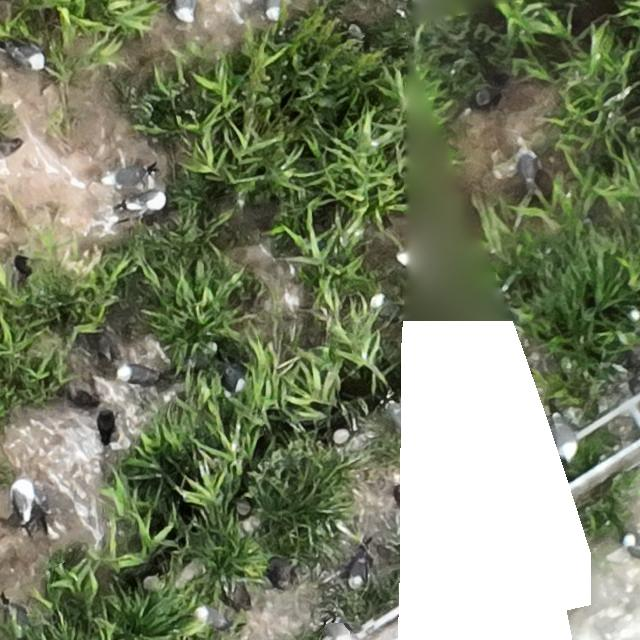umineko: (550, 399, 577, 458), (101, 166, 151, 186), (10, 44, 44, 68), (128, 189, 165, 211), (14, 484, 32, 524), (196, 607, 227, 628), (118, 366, 153, 383), (224, 365, 244, 392), (349, 556, 365, 588), (176, 1, 197, 21), (624, 539, 639, 561), (266, 1, 282, 20)
